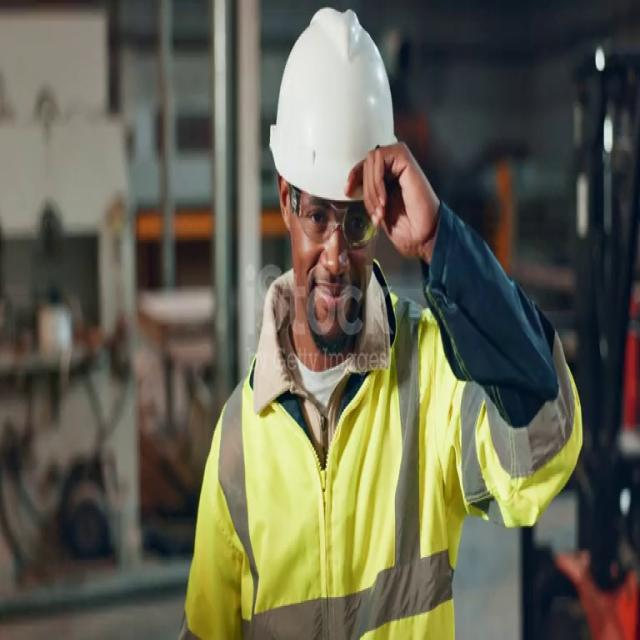capacete: (253, 10, 408, 232)
